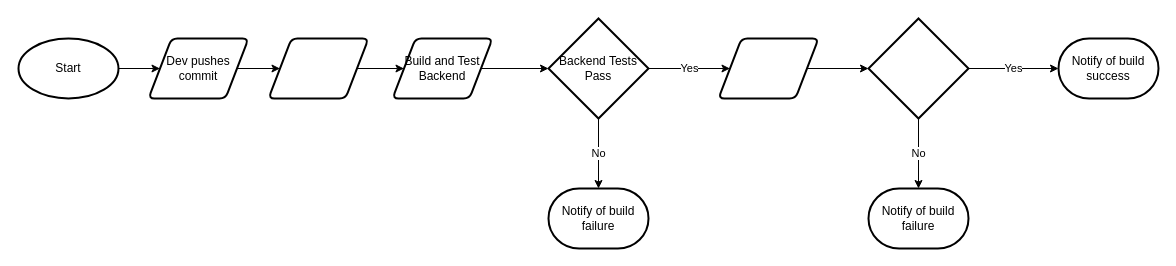
Some shapes in this 1176 by 266 pixel diagram are drawn without their labels. Each missing label, with the centre of its shape:
Build and Test Frontend: point 768,68
CircleCI Pipeline Started: point 318,68
Frontend tests pass: point 918,68
